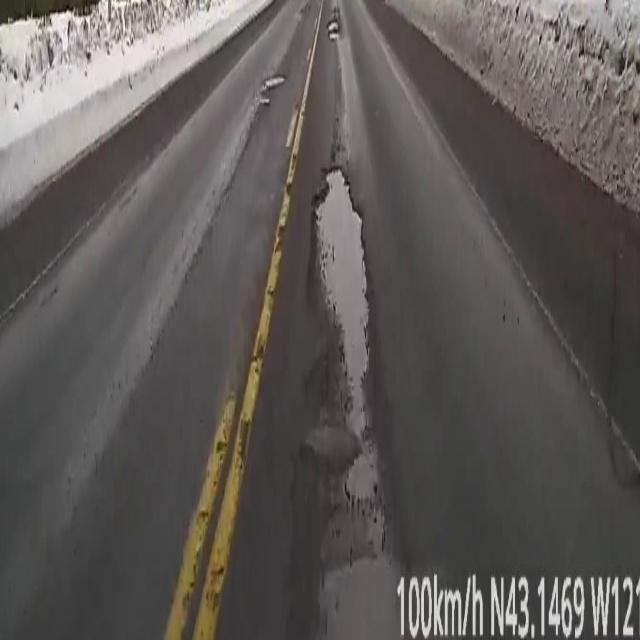pothole: (308, 163, 400, 530), (263, 70, 284, 96), (328, 7, 340, 38)
